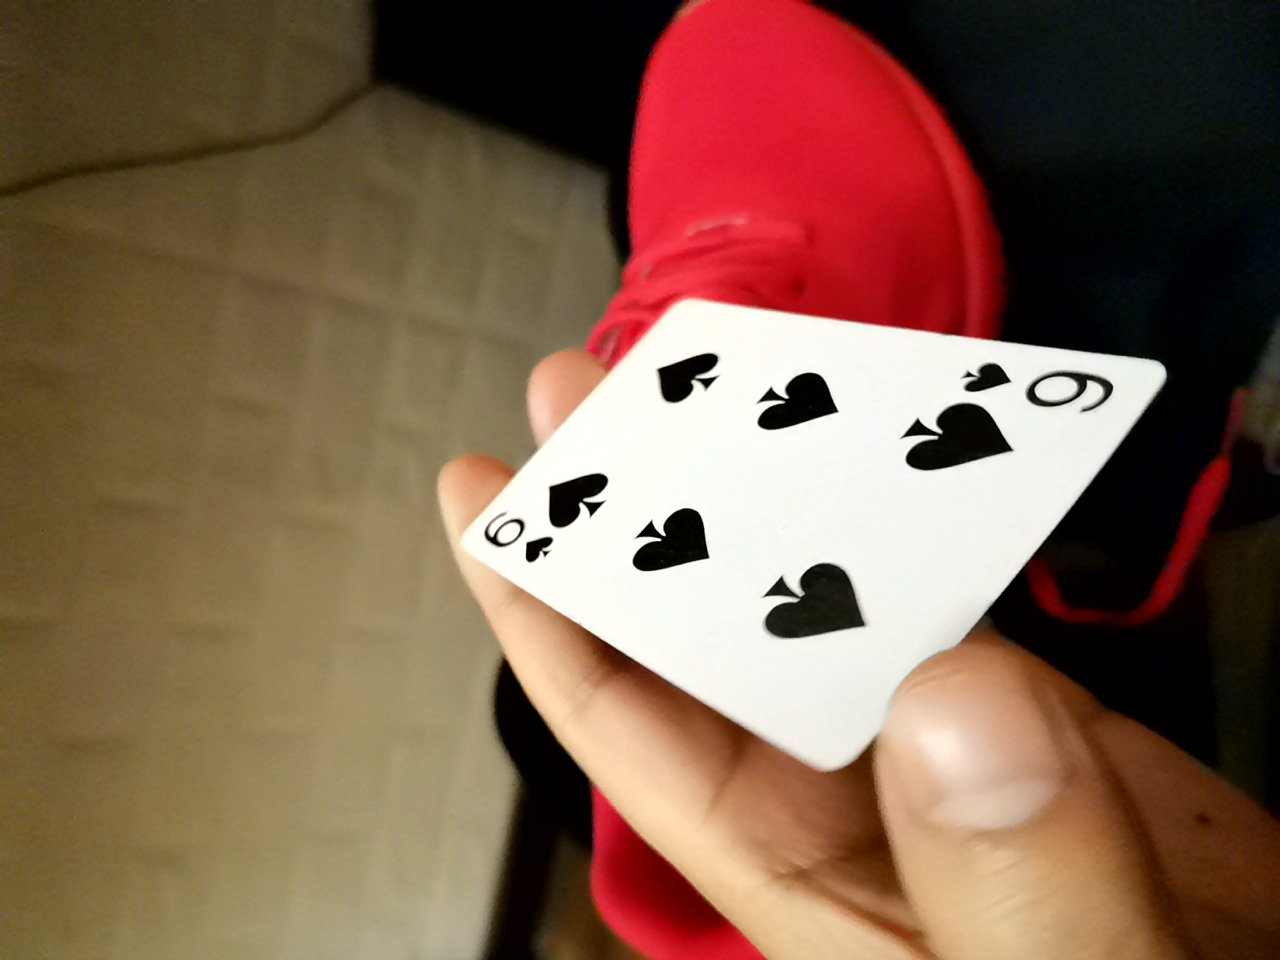ht 6: (463, 293, 1168, 789)
